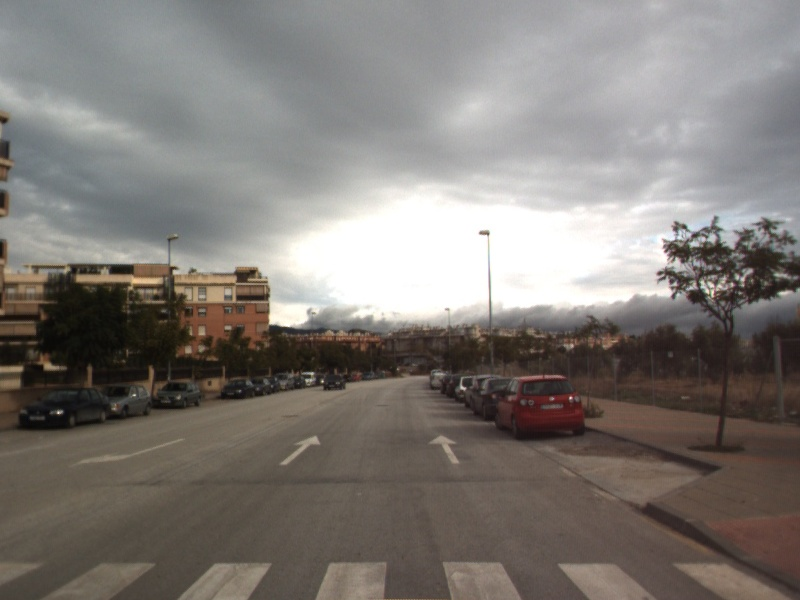STRAIGHT: (278, 433, 323, 467), (426, 432, 462, 465)
